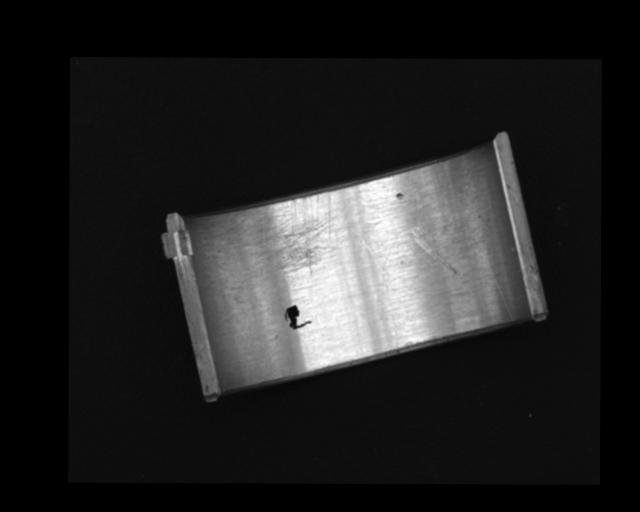blot: (284, 304, 312, 329)
bruise: (395, 191, 405, 200)
nick: (360, 240, 401, 351), (471, 240, 515, 323), (408, 230, 458, 274), (410, 183, 422, 234)
scratch: (228, 190, 342, 275)
